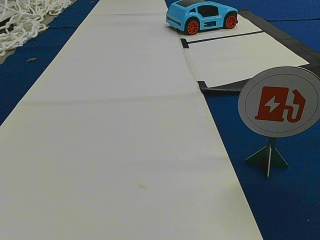battery: (239, 66, 319, 135)
car: (166, 3, 239, 34)
